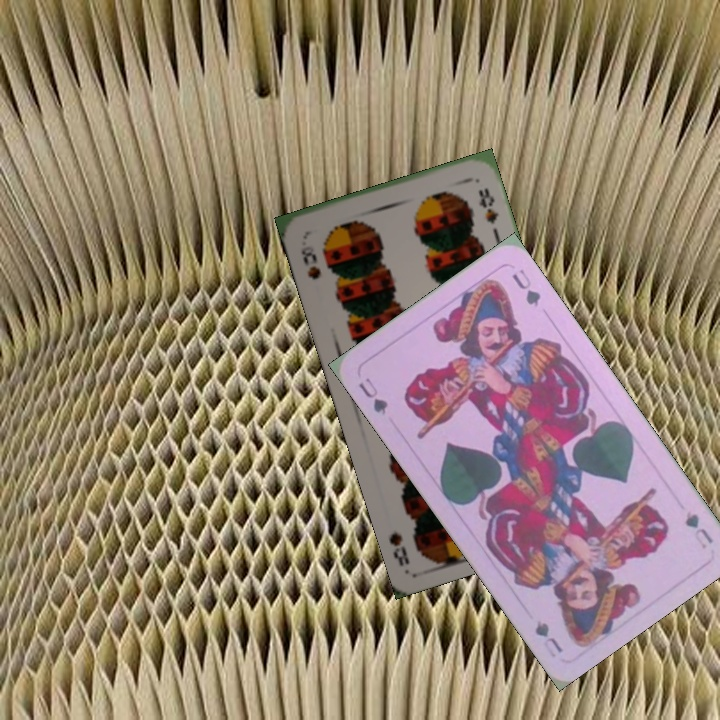GU: (354, 373, 391, 418), (681, 507, 716, 552)
S8: (296, 245, 324, 282)
